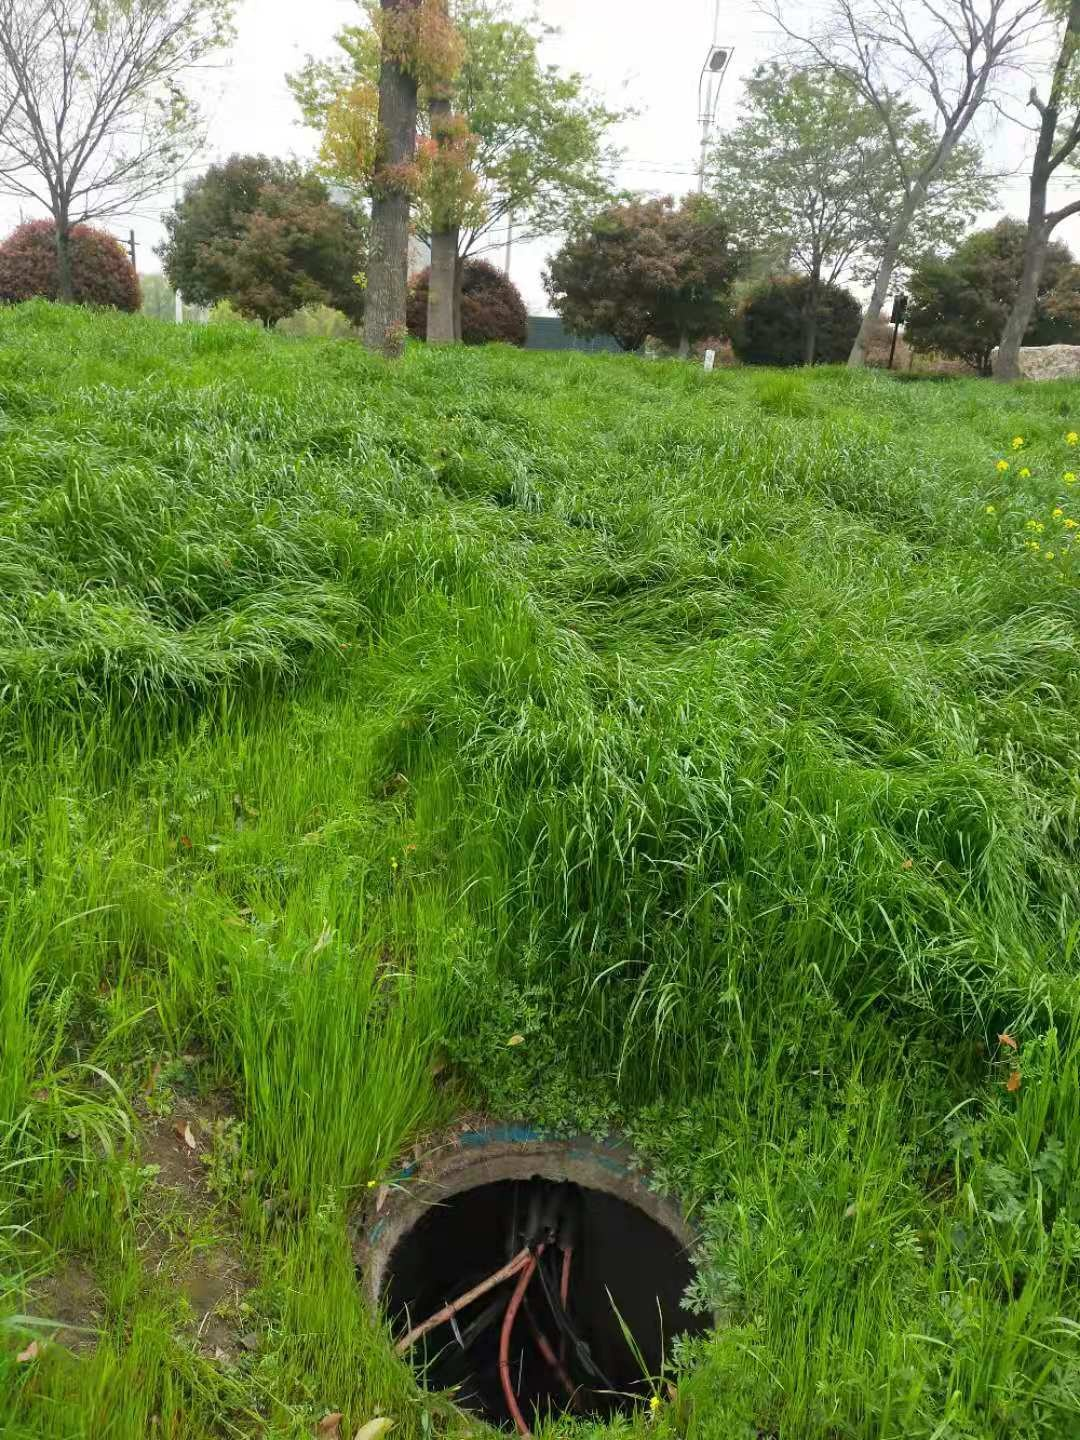lose: (341, 1140, 724, 1440)
